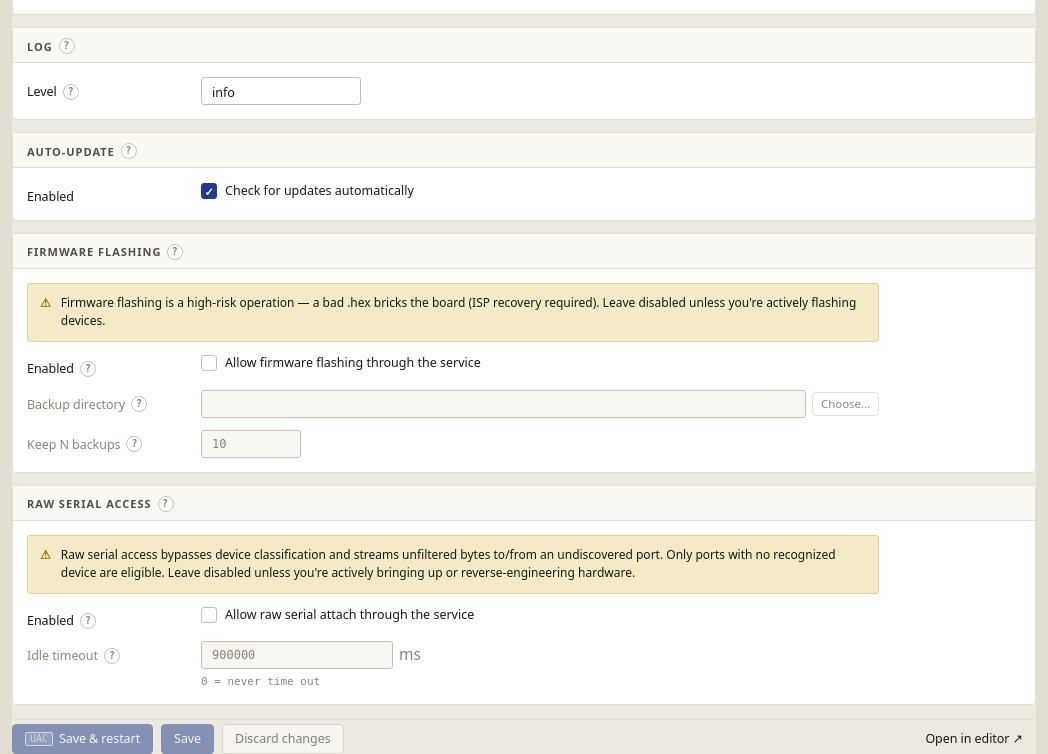
Test: ConfigTab › raw serial: idle-timeout input is disabled when off and enables when toggled on
(page scrolled)
Expected: the number field next to "Idle timeout" is disabled, [201, 641, 393, 669]
Expected: the number field next to "Idle timeout" holds "900000", [201, 641, 393, 669]
Click the text "Allow raw serial attach through the service". click: x=350, y=615
box: [225, 606, 474, 623]
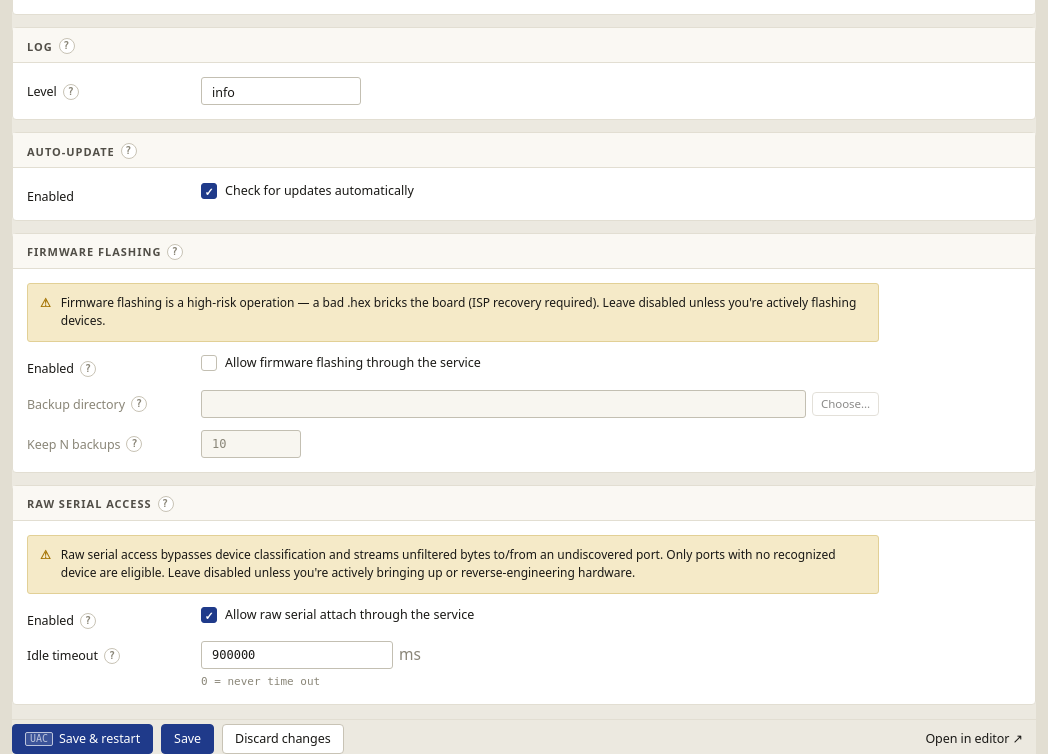
Expected: the number field next to "Idle timeout" is enabled, [201, 641, 393, 669]
